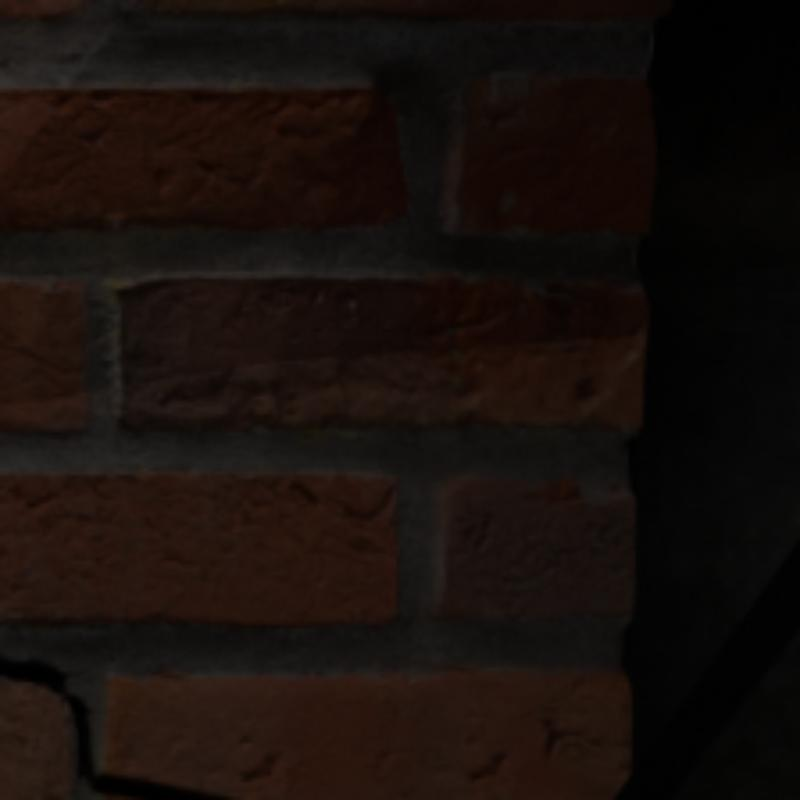crack: (0, 657, 221, 796)
